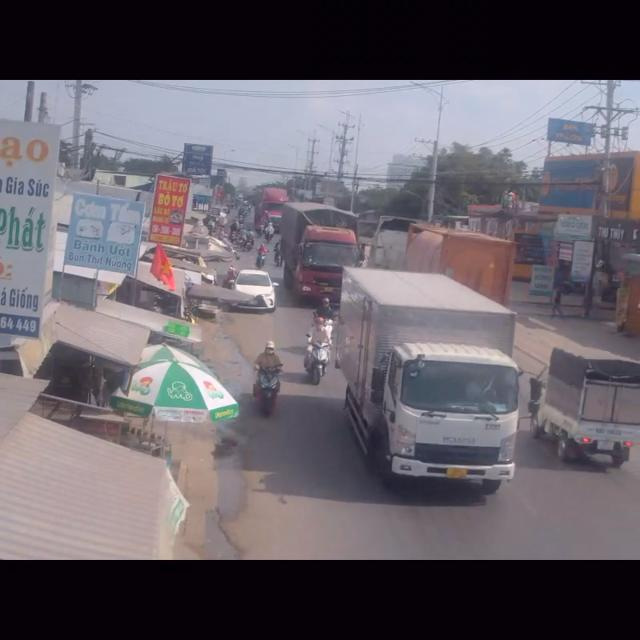motorbike: (254, 341, 284, 418), (305, 318, 330, 383)
truck: (339, 272, 526, 499), (528, 338, 638, 464), (370, 212, 510, 281), (280, 204, 359, 301)
